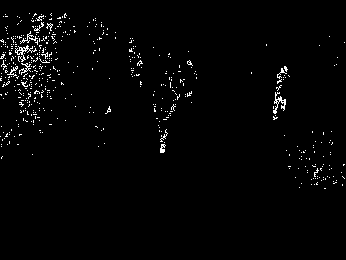person: (269, 66, 295, 130)
